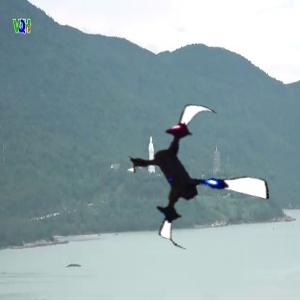drone: (121, 101, 274, 254)
